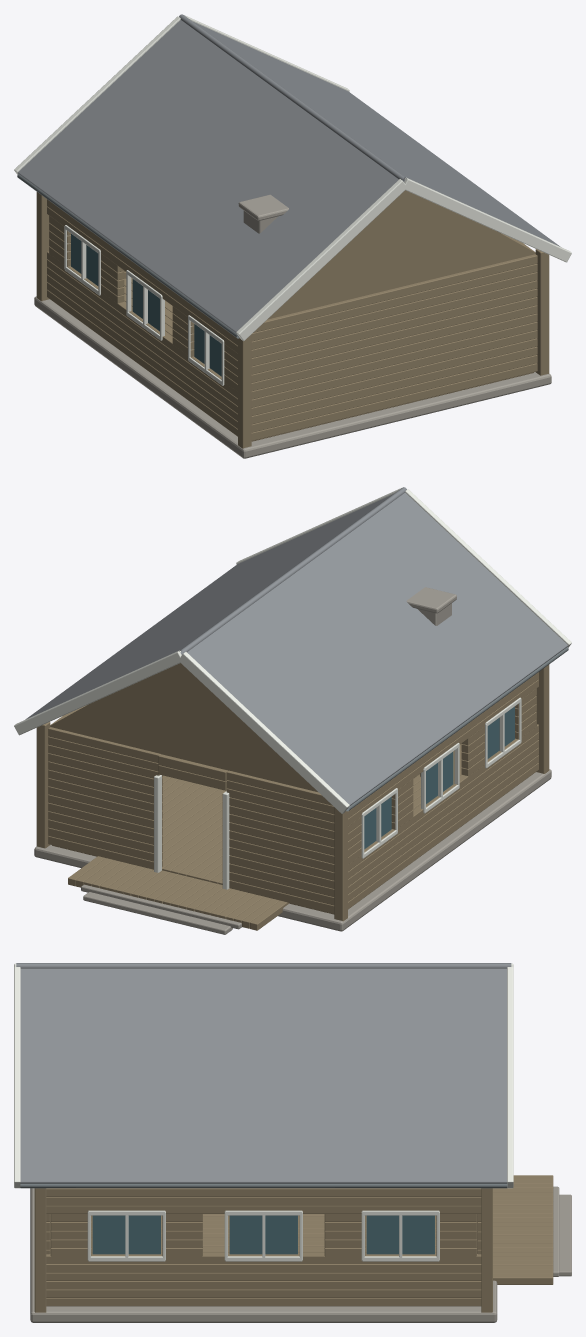
Rendered from SM_AlpineChalet.glb.
The picture shows the model from 3 angles, top to bottom: view 1: azimuth 30°, elevation 25°; view 2: azimuth 150°, elevation 25°; view 3: azimuth 270°, elevation 25°; orthographic projection. The views are drawn at different scales.
Visible parts, largest first — view 1: SM_AlpineChalet; view 2: SM_AlpineChalet; view 3: SM_AlpineChalet.
Boxes of the visible parts, left/top/right/bottom form: SM_AlpineChalet: left=14, top=14, right=571, bottom=458; SM_AlpineChalet: left=14, top=487, right=571, bottom=934; SM_AlpineChalet: left=14, top=963, right=571, bottom=1322.
Size of the model in its own units: 8.42 by 6.02 by 11.
